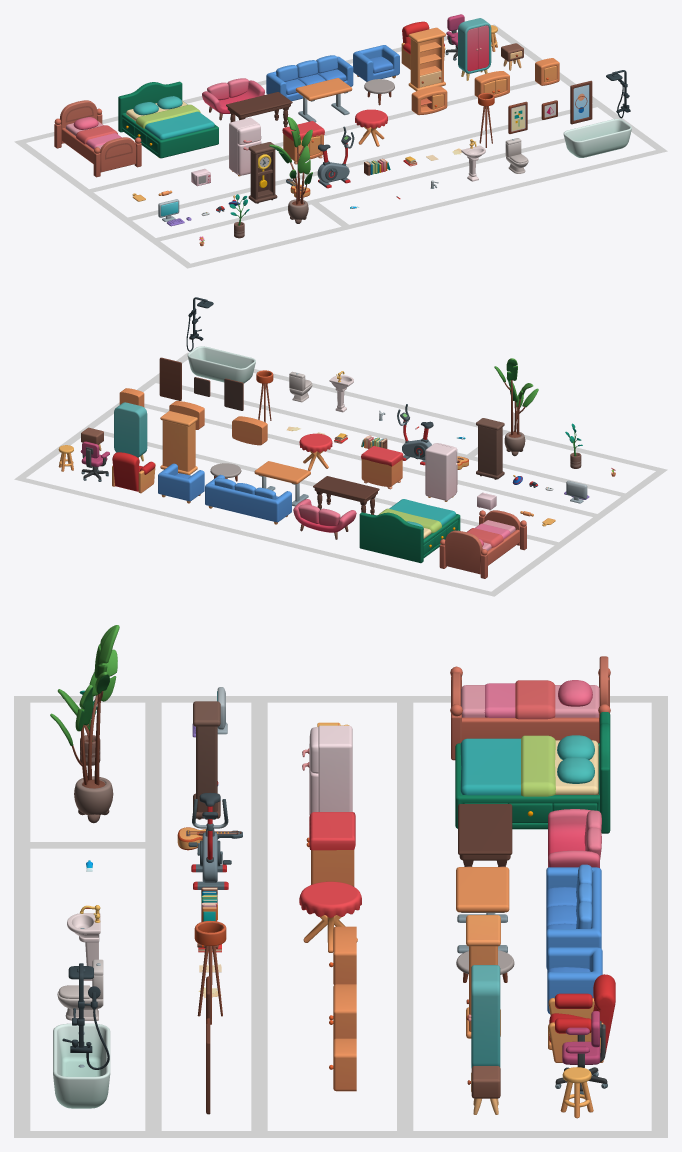
File: Cute_Furniture_Free.glb
The picture shows the model from 3 angles, top to bottom: view 1: azimuth 30°, elevation 25°; view 2: azimuth 150°, elevation 25°; view 3: azimuth 270°, elevation 25°; orthographic projection. The views are drawn at different scales.
Parts seen in each view (by area): view 1: Frame, Bed_02, Bed_07, Bath_03, Couch_08, Closet_01, Closet_02, Plants_19, Clock_03, Fridge_01, Armchair_02, Couch_11 (+17 smaller); view 2: Frame, Bed_02, Bed_07, Couch_08, Bath_03, Closet_01, Fridge_01, Closet_02, Kitchen_D_01, Clock_03, Plants_19, Armchair_18 (+14 smaller); view 3: Frame, Bed_02, Bed_07, Bath_03, Plants_19, Couch_08, Fridge_01, Kitchen_D_01, Armchair_18, Kitchen_Table_09, Couch_11, Closet_02 (+15 smaller).
Boxes of the visible parts, box(x1,y1,x2,y2) form: Frame: box(14, 24, 667, 268); Bed_02: box(118, 81, 218, 158); Bed_07: box(54, 100, 141, 177); Bath_03: box(563, 70, 631, 157); Couch_08: box(266, 55, 353, 101); Closet_01: box(408, 27, 445, 91); Closet_02: box(458, 18, 491, 80); Plants_19: box(269, 117, 312, 223); Clock_03: box(248, 142, 277, 203); Fridge_01: box(229, 117, 261, 176); Armchair_02: box(353, 45, 399, 81); Couch_11: box(202, 78, 264, 120); Frame: box(14, 352, 667, 596); Bed_02: box(359, 499, 460, 563); Bed_07: box(439, 510, 526, 578); Couch_08: box(205, 474, 291, 524); Bath_03: box(186, 297, 255, 383); Closet_01: box(160, 411, 197, 474); Fridge_01: box(425, 443, 457, 501); Closet_02: box(114, 402, 147, 461); Kitchen_D_01: box(361, 446, 403, 489); Clock_03: box(476, 418, 504, 479); Plants_19: box(494, 358, 538, 456); Armchair_18: box(112, 452, 155, 493); Frame: box(14, 696, 667, 1137); Bed_02: box(455, 712, 610, 833); Bed_07: box(450, 656, 610, 760); Bath_03: box(53, 963, 110, 1108); Plants_19: box(50, 625, 119, 823); Couch_08: box(546, 864, 601, 969); Fridge_01: box(302, 725, 352, 815); Kitchen_D_01: box(306, 812, 355, 886); Armchair_18: box(548, 974, 615, 1062); Kitchen_Table_09: box(458, 804, 512, 866); Couch_11: box(548, 809, 601, 867); Closet_02: box(468, 965, 500, 1067).
Bounding box in the file's own units: 14.45 × 2.9 × 9.03.
3 materials, 2 textured.
